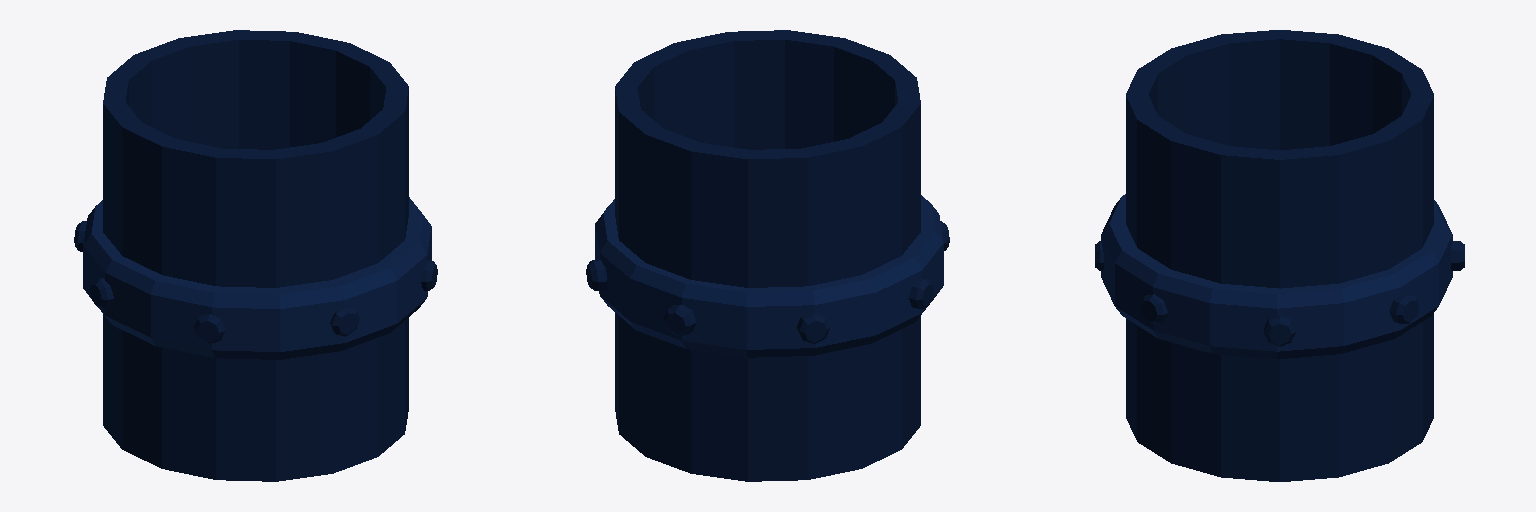
The model's file is Pipe_Straight.obj.
3 views of the same model, side by side, from view 1: azimuth 30°, elevation 25°; view 2: azimuth 150°, elevation 25°; view 3: azimuth 270°, elevation 25° (orthographic).
Parts seen in each view (by area): view 1: Pipe_Straight_Cylinder.023; view 2: Pipe_Straight_Cylinder.023; view 3: Pipe_Straight_Cylinder.023.
Part boxes in pixels (left/top/right/bottom): Pipe_Straight_Cylinder.023: left=74, top=30, right=437, bottom=481; Pipe_Straight_Cylinder.023: left=586, top=30, right=949, bottom=481; Pipe_Straight_Cylinder.023: left=1095, top=30, right=1464, bottom=481.
Bounding box in the file's own units: 2.08 × 2 × 2.08.